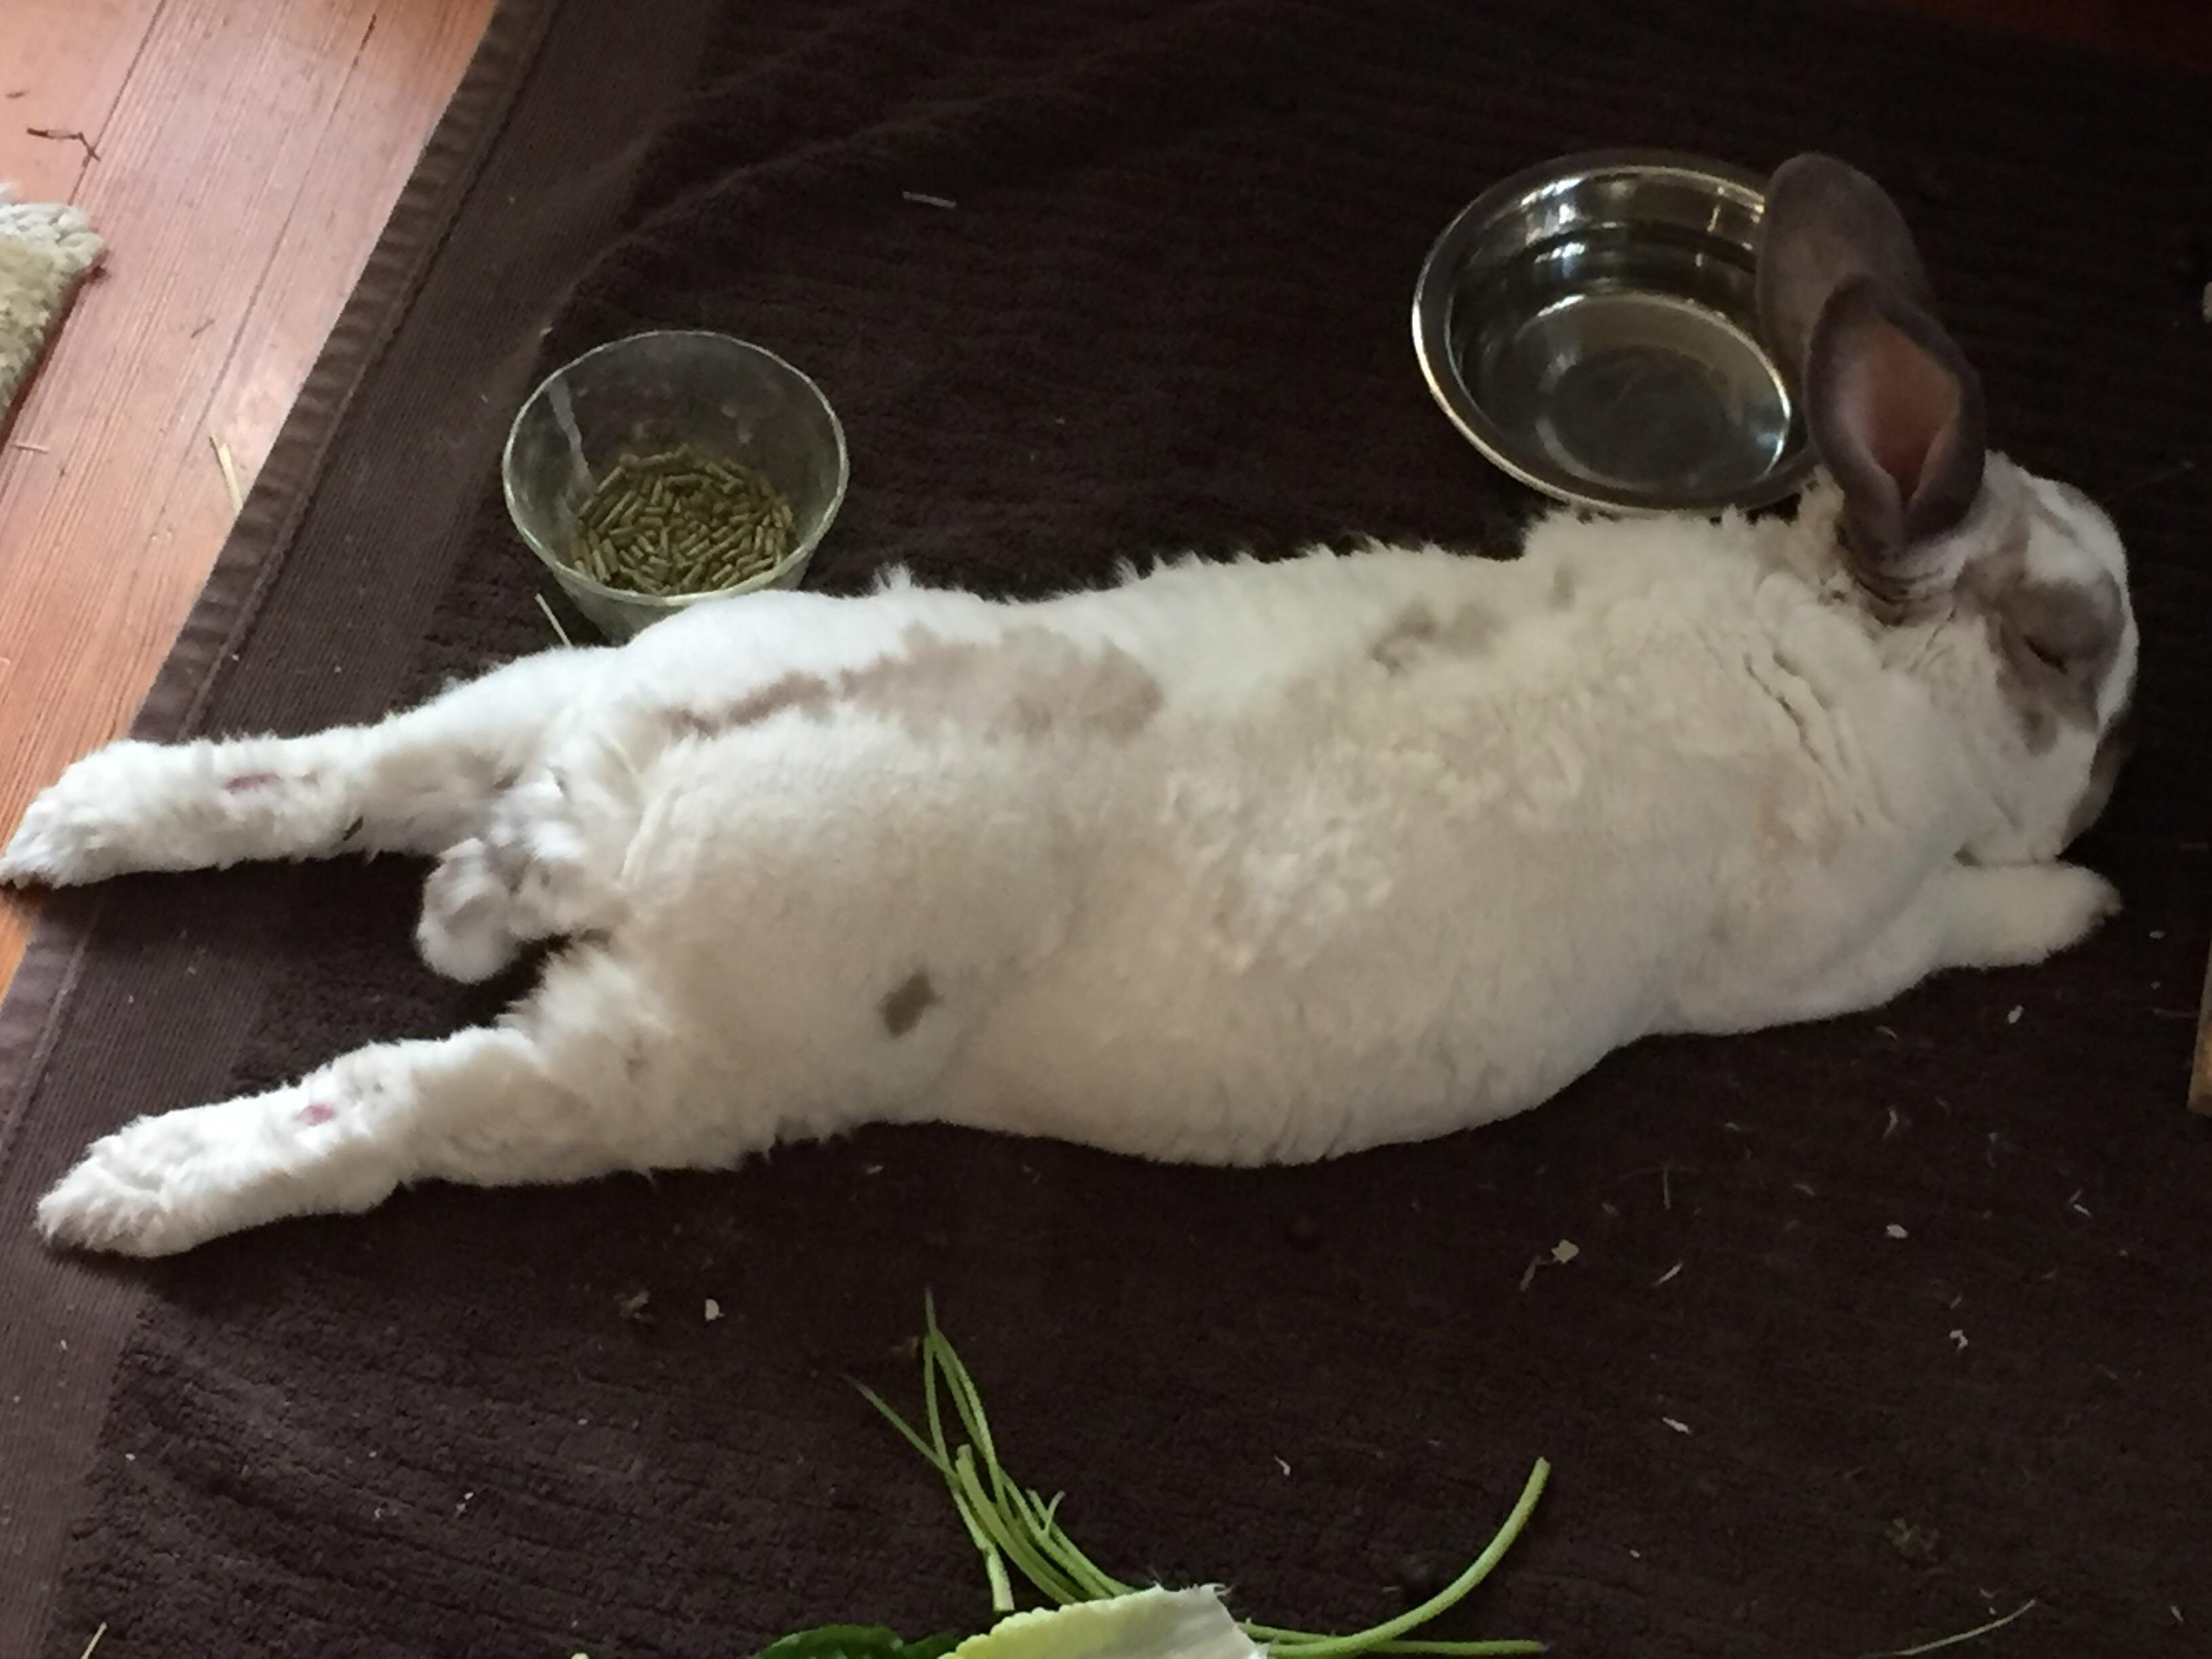bunny: (56, 127, 2212, 1298)
